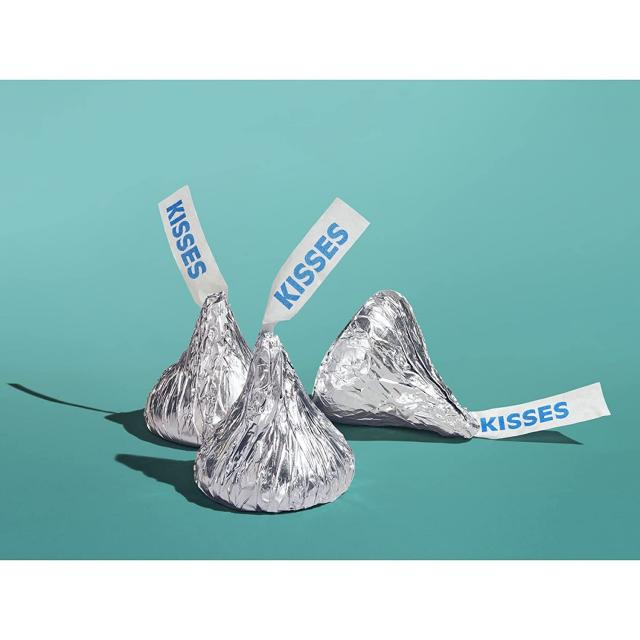kisses: (191, 328, 357, 518), (316, 283, 492, 448), (129, 287, 272, 445)
